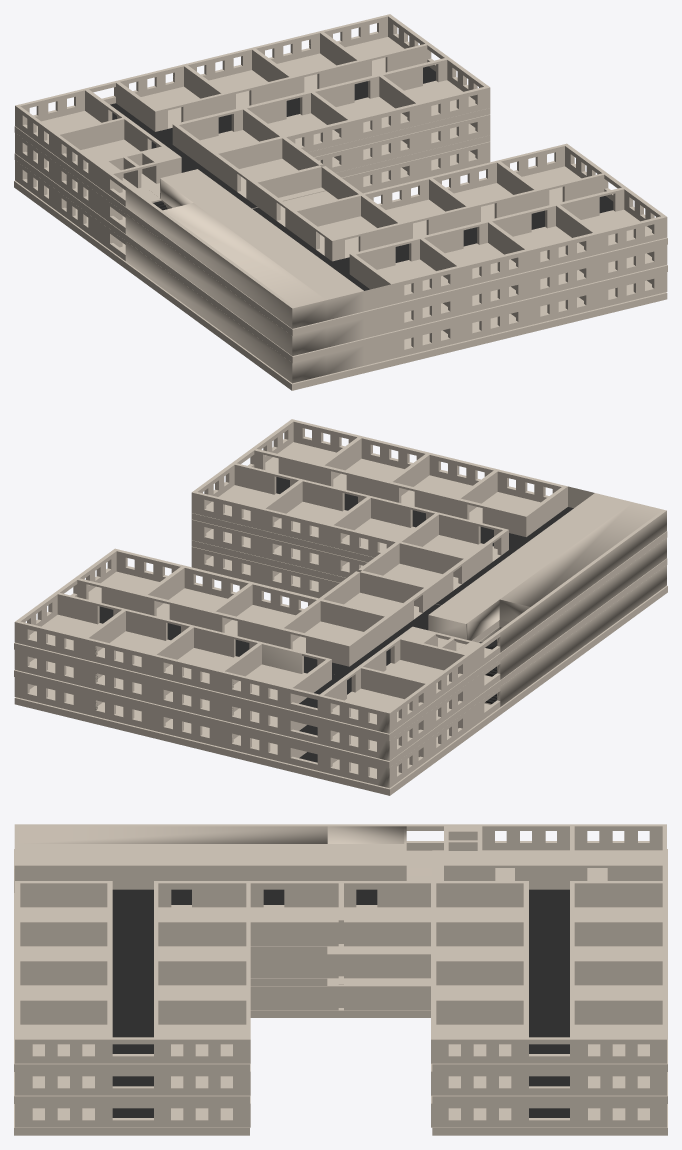
The picture shows the model from 3 angles, top to bottom: view 1: azimuth 30°, elevation 25°; view 2: azimuth 150°, elevation 25°; view 3: azimuth 270°, elevation 25°; orthographic projection. The views are drawn at different scales.
Visible parts, largest first — view 1: C7.002, C7.001, C7; view 2: C7.002, C7.001, C7; view 3: C7.002, C7, C7.001.
Part boxes in pixels (bbox=[...]): C7.002: bbox=[14, 14, 667, 335]; C7.001: bbox=[14, 114, 667, 363]; C7: bbox=[14, 141, 667, 390]; C7.002: bbox=[14, 419, 667, 740]; C7.001: bbox=[14, 519, 667, 768]; C7: bbox=[14, 546, 667, 795]; C7.002: bbox=[14, 824, 667, 1071]; C7: bbox=[14, 978, 667, 1135]; C7.001: bbox=[14, 946, 667, 1103].
Size of the model in its own units: 19282 by 4017 by 24701.
